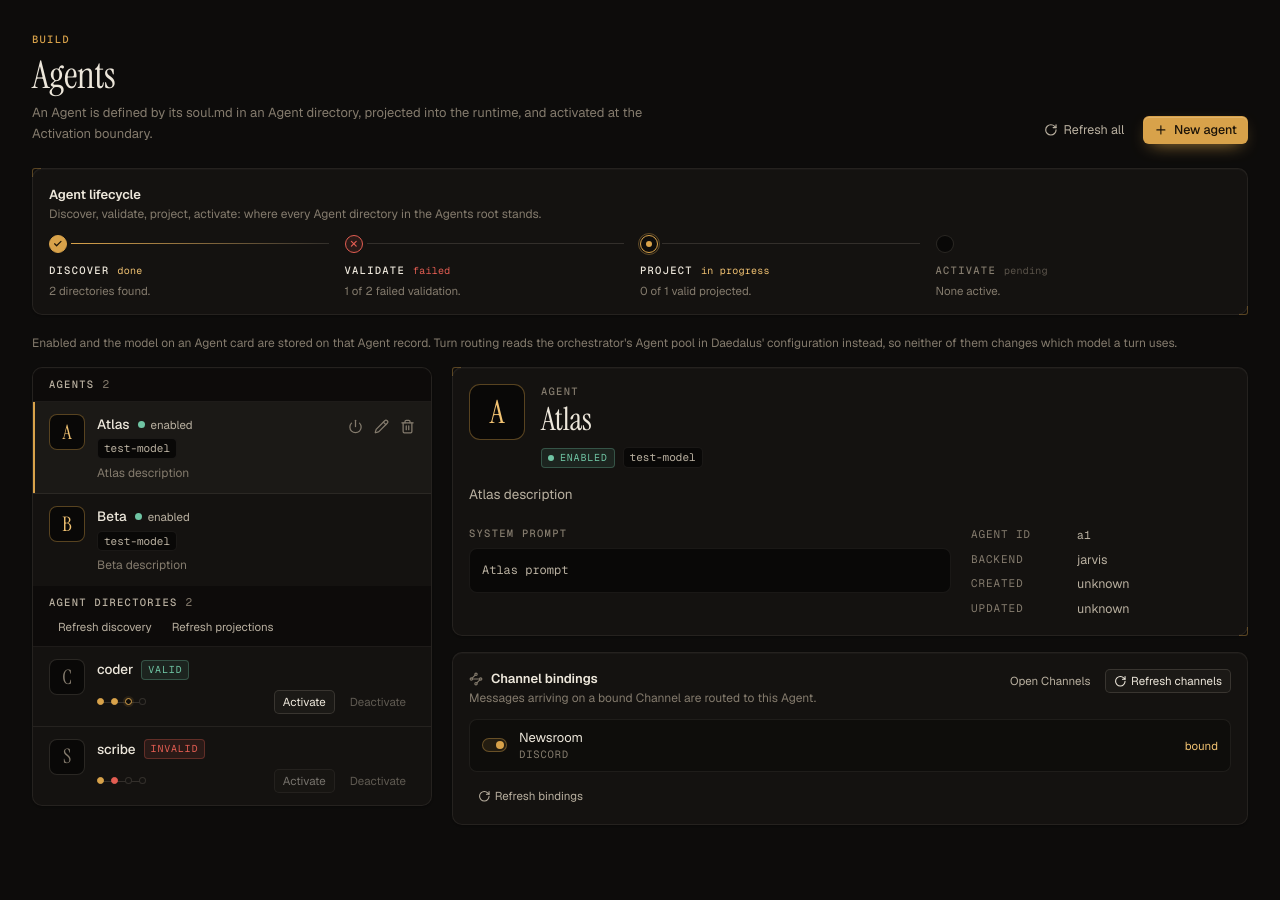
Agents master-detail › keeps Save disabled until both a name and a model are given
expect the heading "Atlas" is shown: met, box [97,414,130,434]
Click the button "New agent" at (1196, 130), box [1143,116,1248,144]
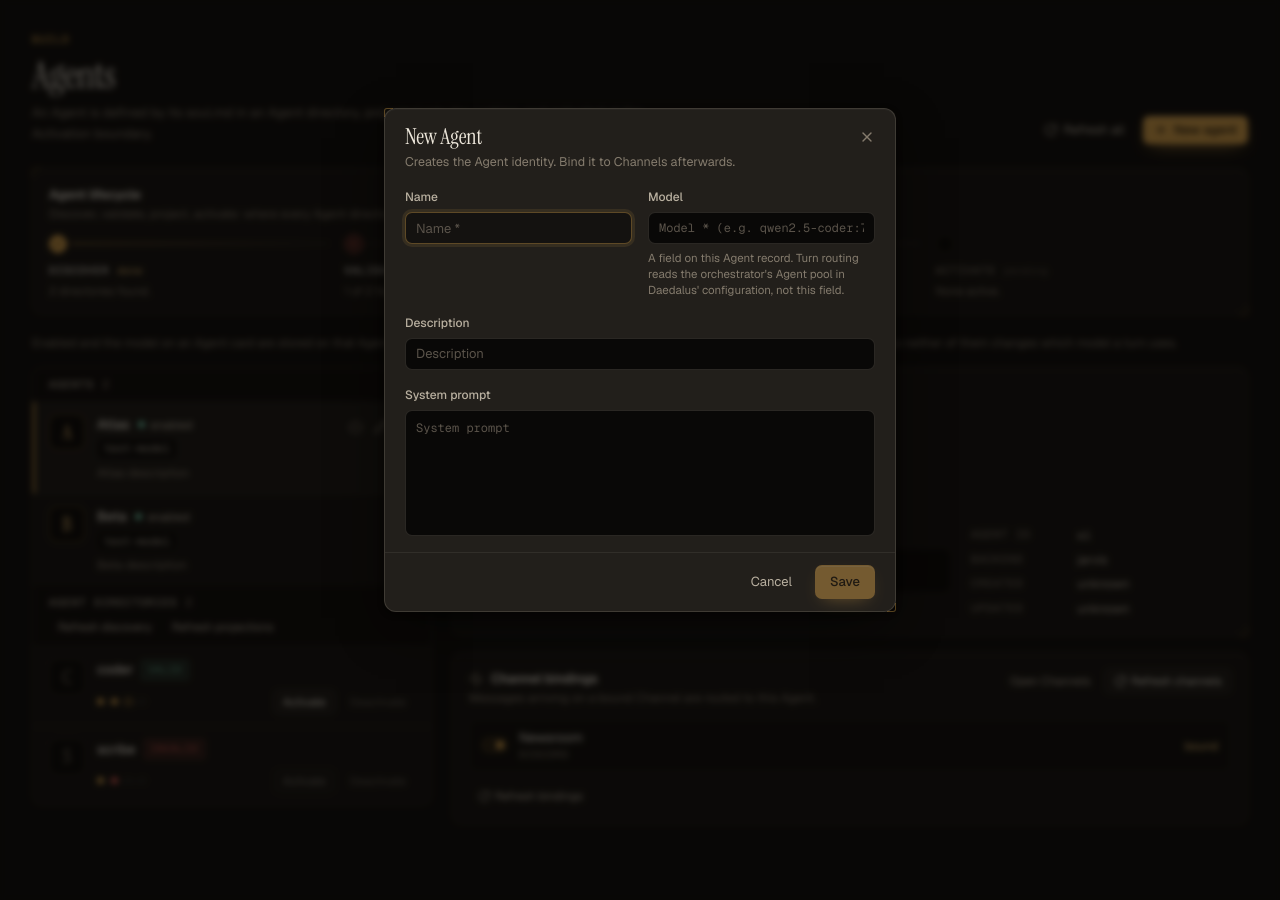
expect the button "Save" is disabled: met, box [815,565,875,599]
Type "Nova" into the field with placeholder "Name *" at (518, 228), box [405,212,632,244]
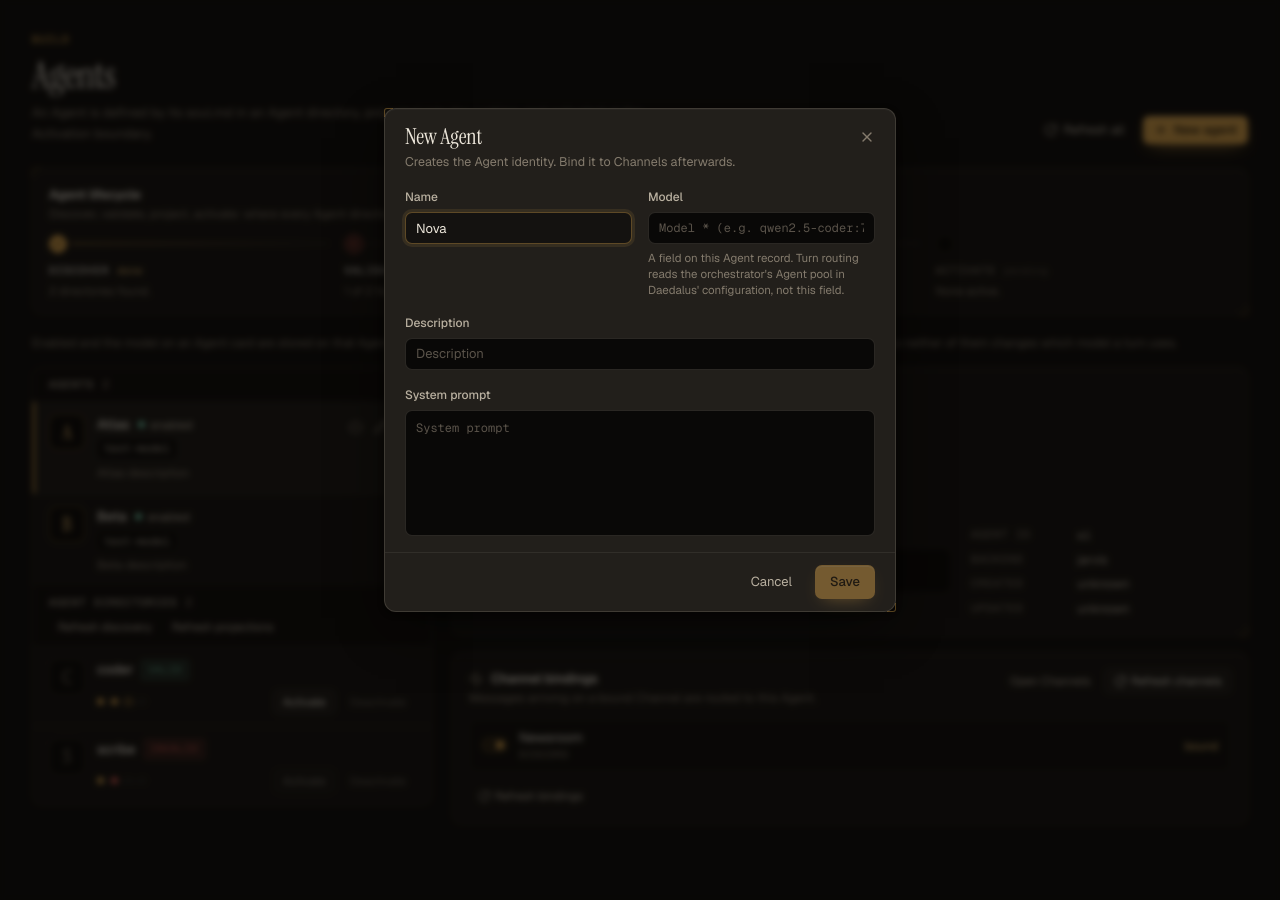
expect the button "Save" is disabled: met, box [815,565,875,599]
Type "m" into the field with placeholder "Model * (e.g. qwen2.5-coder:7b)" at (762, 228), box [648,212,875,244]
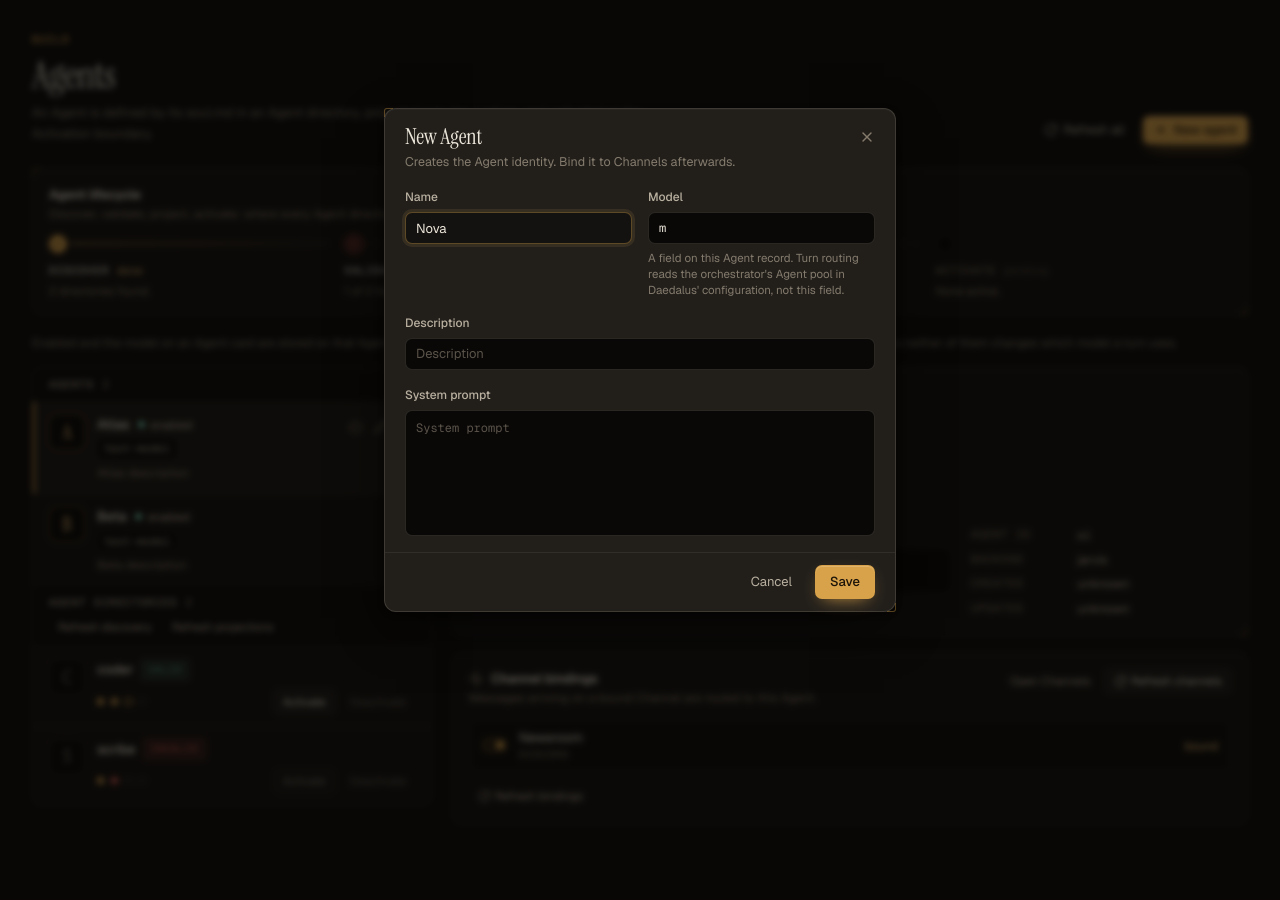
expect the button "Save" is enabled: met, box [815,565,875,599]
Click the button "Cancel" at (771, 582), box [736,565,807,599]
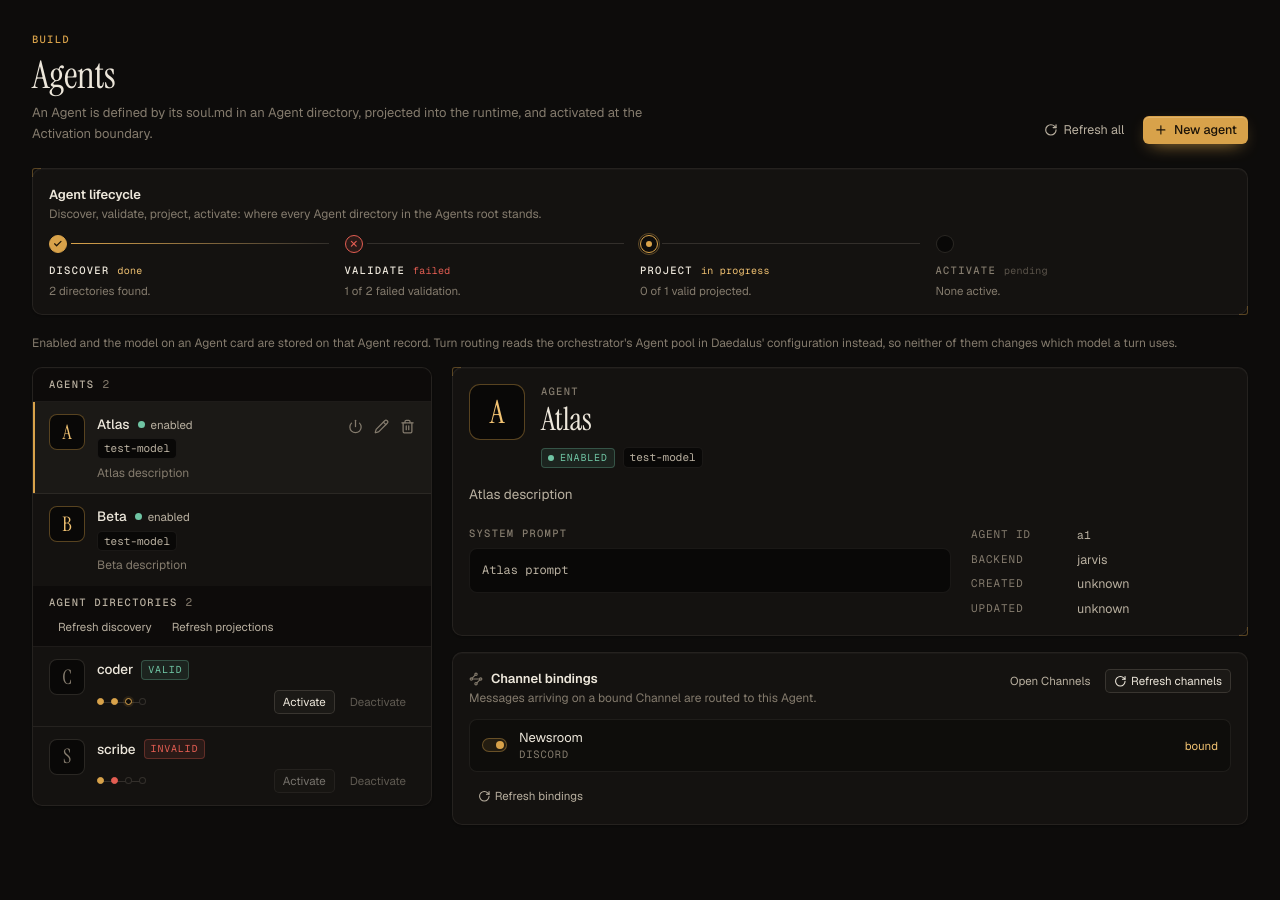
expect the dialog is gone: met
